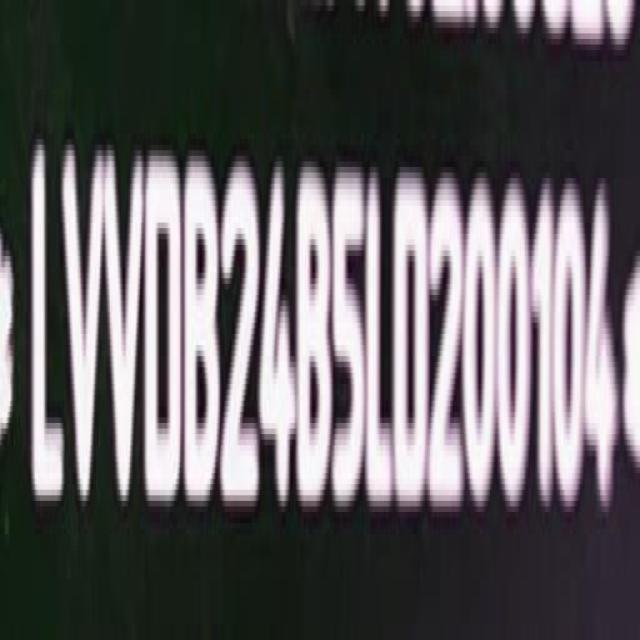0: (547, 178, 585, 518), (497, 172, 533, 518), (464, 172, 499, 517)
1: (528, 176, 554, 521)
2: (220, 155, 260, 521), (429, 163, 467, 520)
4: (258, 155, 298, 520), (585, 183, 623, 518)
5: (332, 164, 368, 520)
B: (185, 151, 222, 517), (298, 160, 332, 518)
D: (143, 148, 182, 515), (396, 163, 432, 519)
L: (28, 136, 68, 520), (365, 157, 398, 520)
V: (102, 145, 148, 519), (63, 142, 106, 518)
